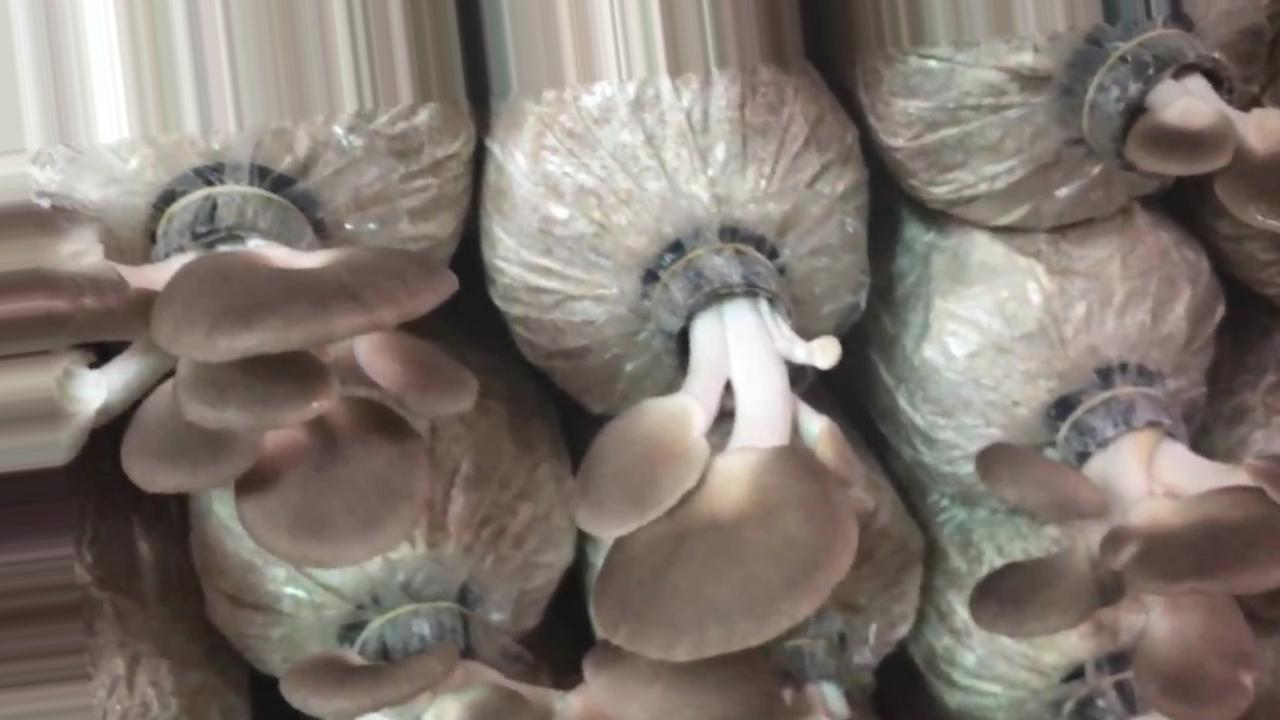nam: (1, 182, 477, 568), (581, 246, 874, 663), (966, 385, 1280, 719), (1106, 30, 1280, 235)
